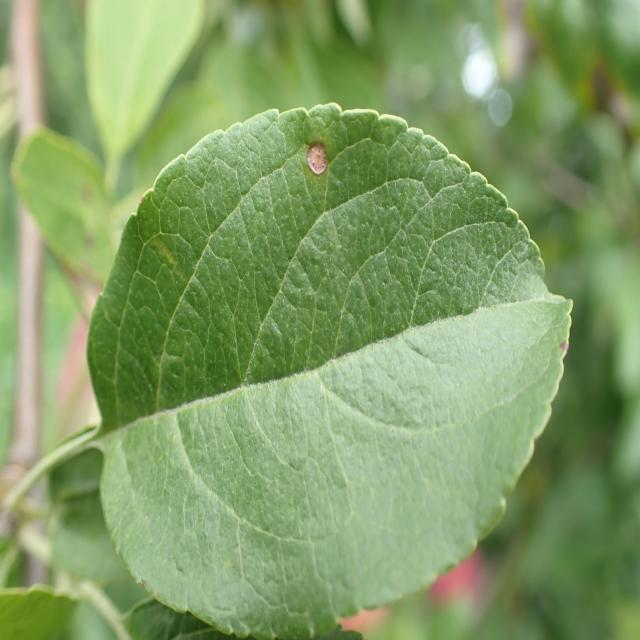frog-eye-leaf-spot: (86, 100, 574, 640)
